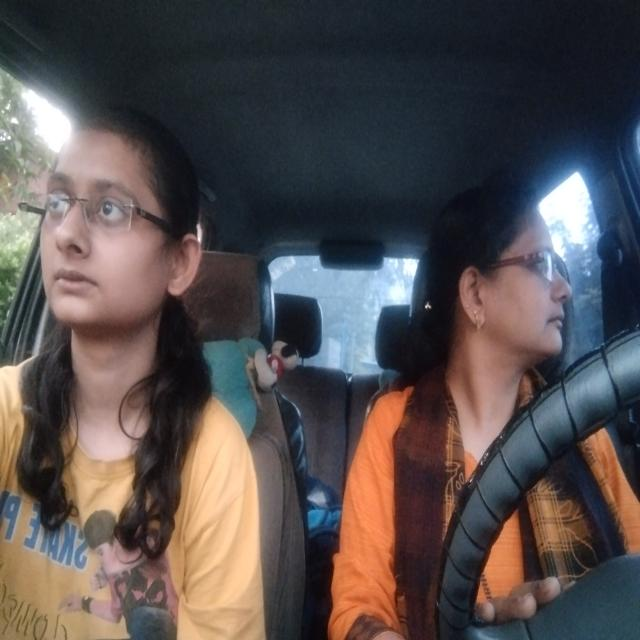LeftRight: (425, 176, 578, 383)
person: (17, 100, 206, 383)
